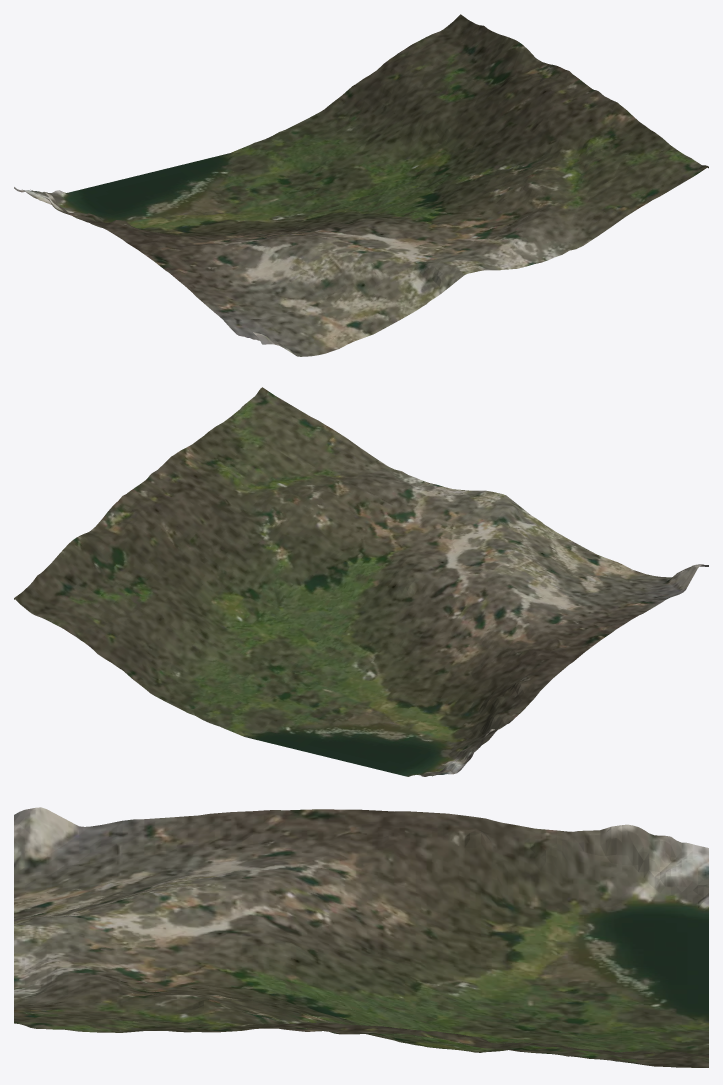
3 views of the same model, one above another, from view 1: azimuth 30°, elevation 25°; view 2: azimuth 150°, elevation 25°; view 3: azimuth 270°, elevation 25° (orthographic). The views are drawn at different scales.
Size of the model in its own units: 250 by 60.91 by 241.
1 material, 1 textured.
